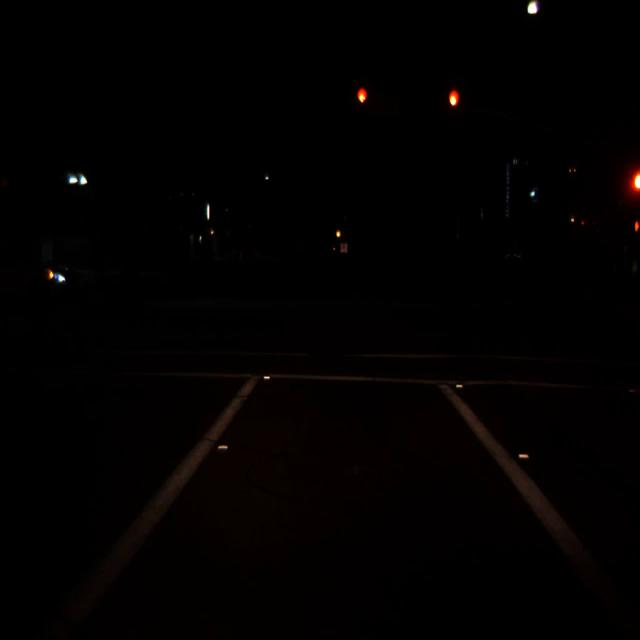stop: (624, 170, 640, 215), (448, 87, 460, 125)
stop left: (356, 86, 368, 118)
stop left traffic light: (356, 86, 368, 118)
stop traffic light: (624, 170, 640, 215), (448, 87, 460, 125)
